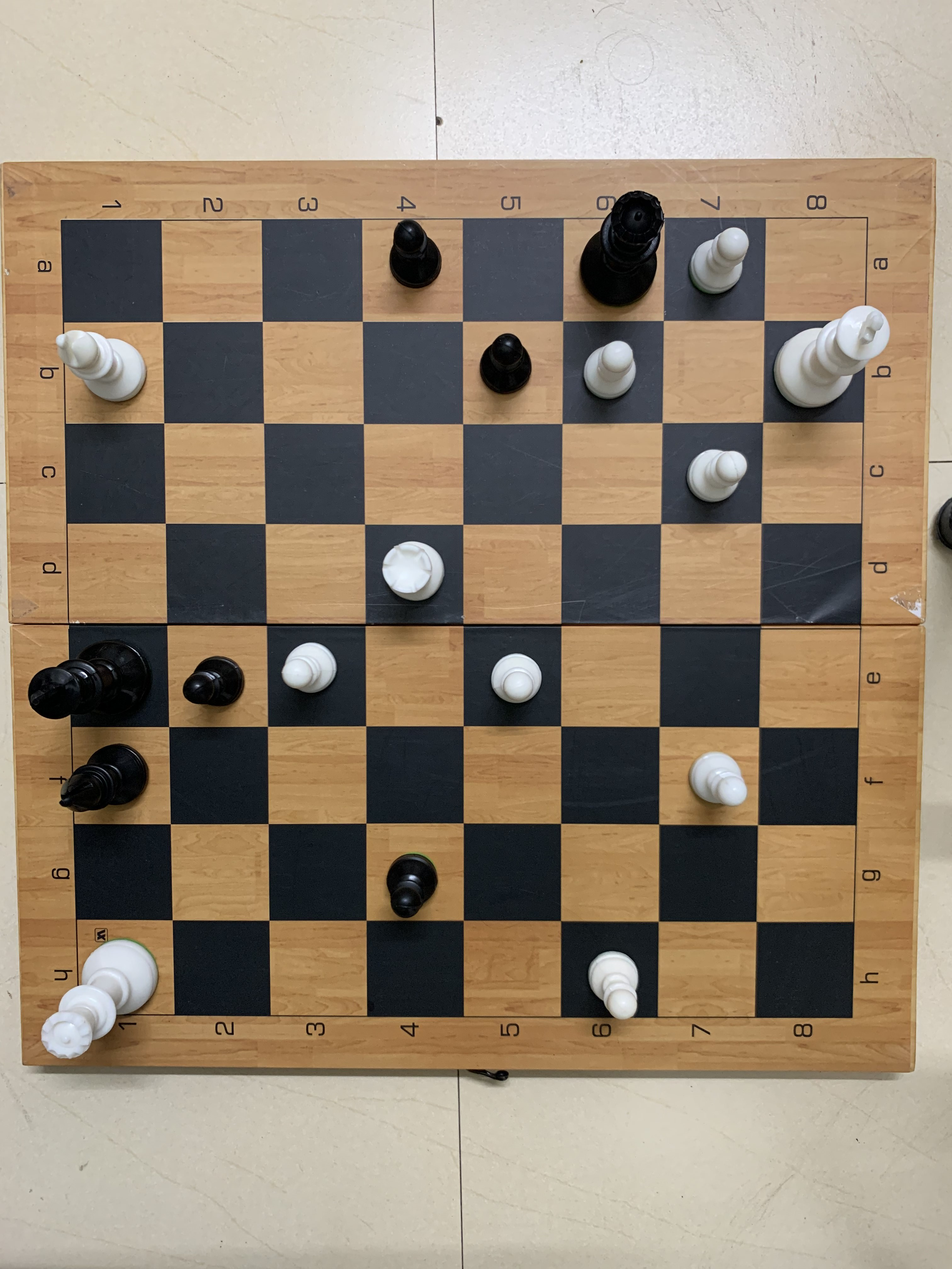black_bishop: (49, 746, 156, 823)
black_king: (20, 625, 158, 735)
black_pawn: (370, 834, 465, 932), (362, 210, 455, 302), (175, 638, 263, 727), (468, 329, 550, 419)
black_queen: (565, 178, 672, 315)
white_bishop: (50, 318, 167, 424)
white_king: (767, 295, 896, 420)
white_pawn: (564, 919, 650, 1034), (564, 328, 660, 415), (674, 223, 760, 313), (672, 740, 764, 819), (674, 439, 761, 522), (475, 633, 555, 722), (264, 625, 349, 705)
white_queen: (28, 926, 172, 1062)
white_rook: (372, 522, 466, 616)
